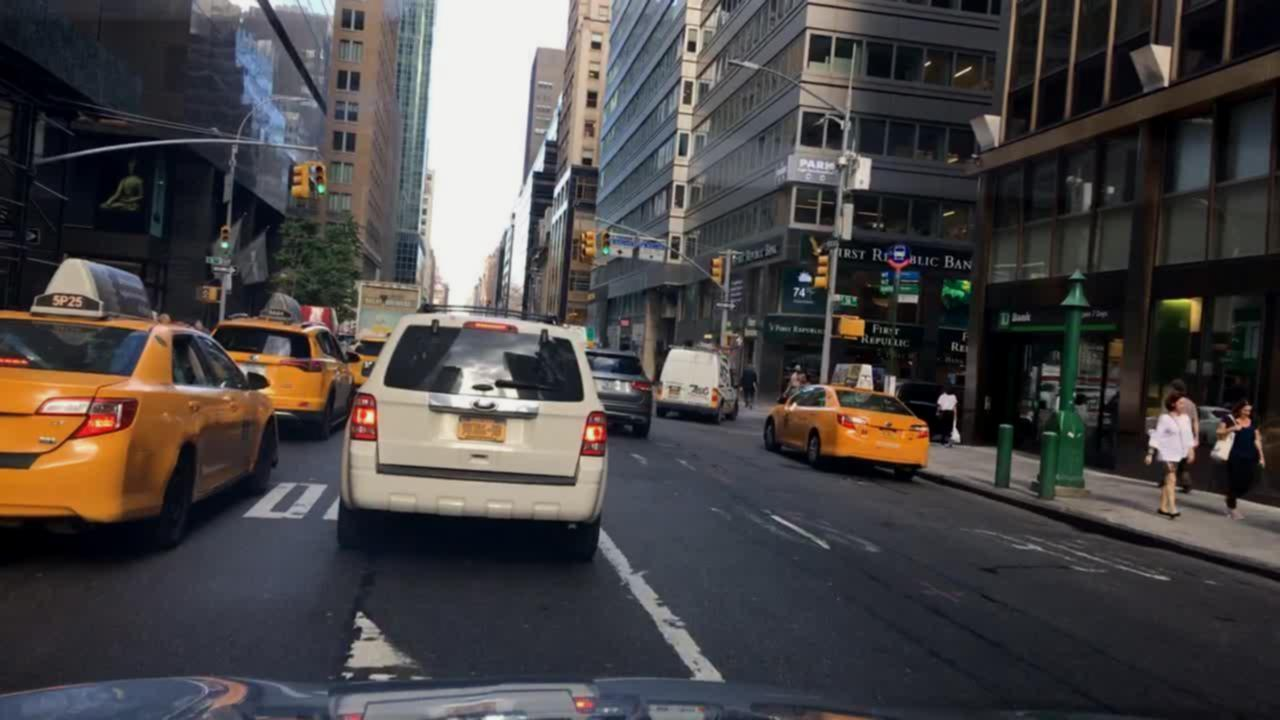ford: (470, 393, 503, 415)
